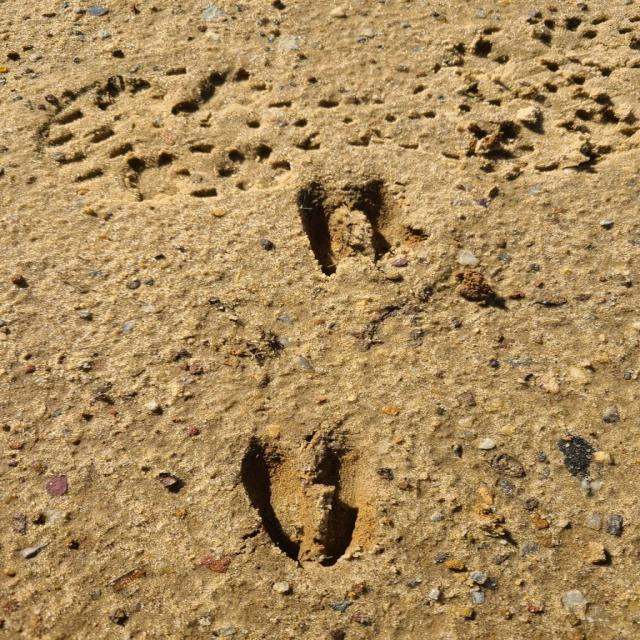deer: (238, 438, 367, 564), (288, 181, 407, 269)
